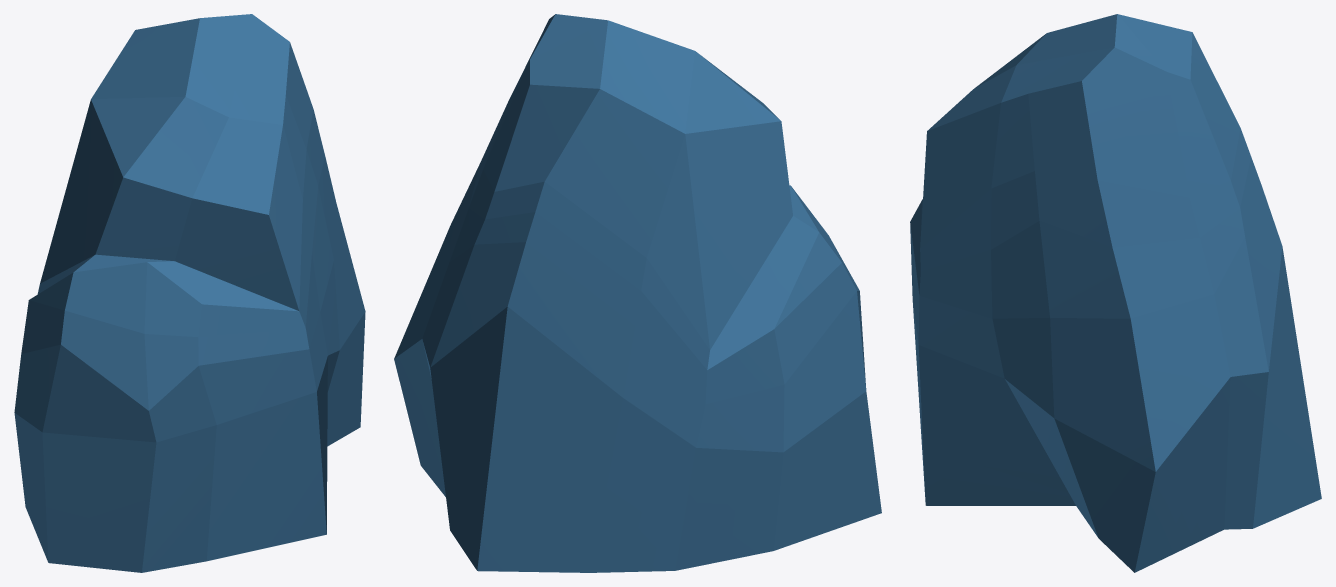
The model's file is SM_IceRock7.fbx.
3 views of the same model, side by side, from view 1: azimuth 30°, elevation 25°; view 2: azimuth 150°, elevation 25°; view 3: azimuth 270°, elevation 25° (orthographic). The views are drawn at different scales.
Parts seen in each view (by area): view 1: SM_IceRock7; view 2: SM_IceRock7; view 3: SM_IceRock7.
Part boxes in pixels (x1=…): SM_IceRock7: x1=14, y1=14, x2=365, y2=572; SM_IceRock7: x1=394, y1=14, x2=881, y2=572; SM_IceRock7: x1=910, y1=14, x2=1321, y2=572.
Size of the model in its own units: 231 by 259 by 204.
